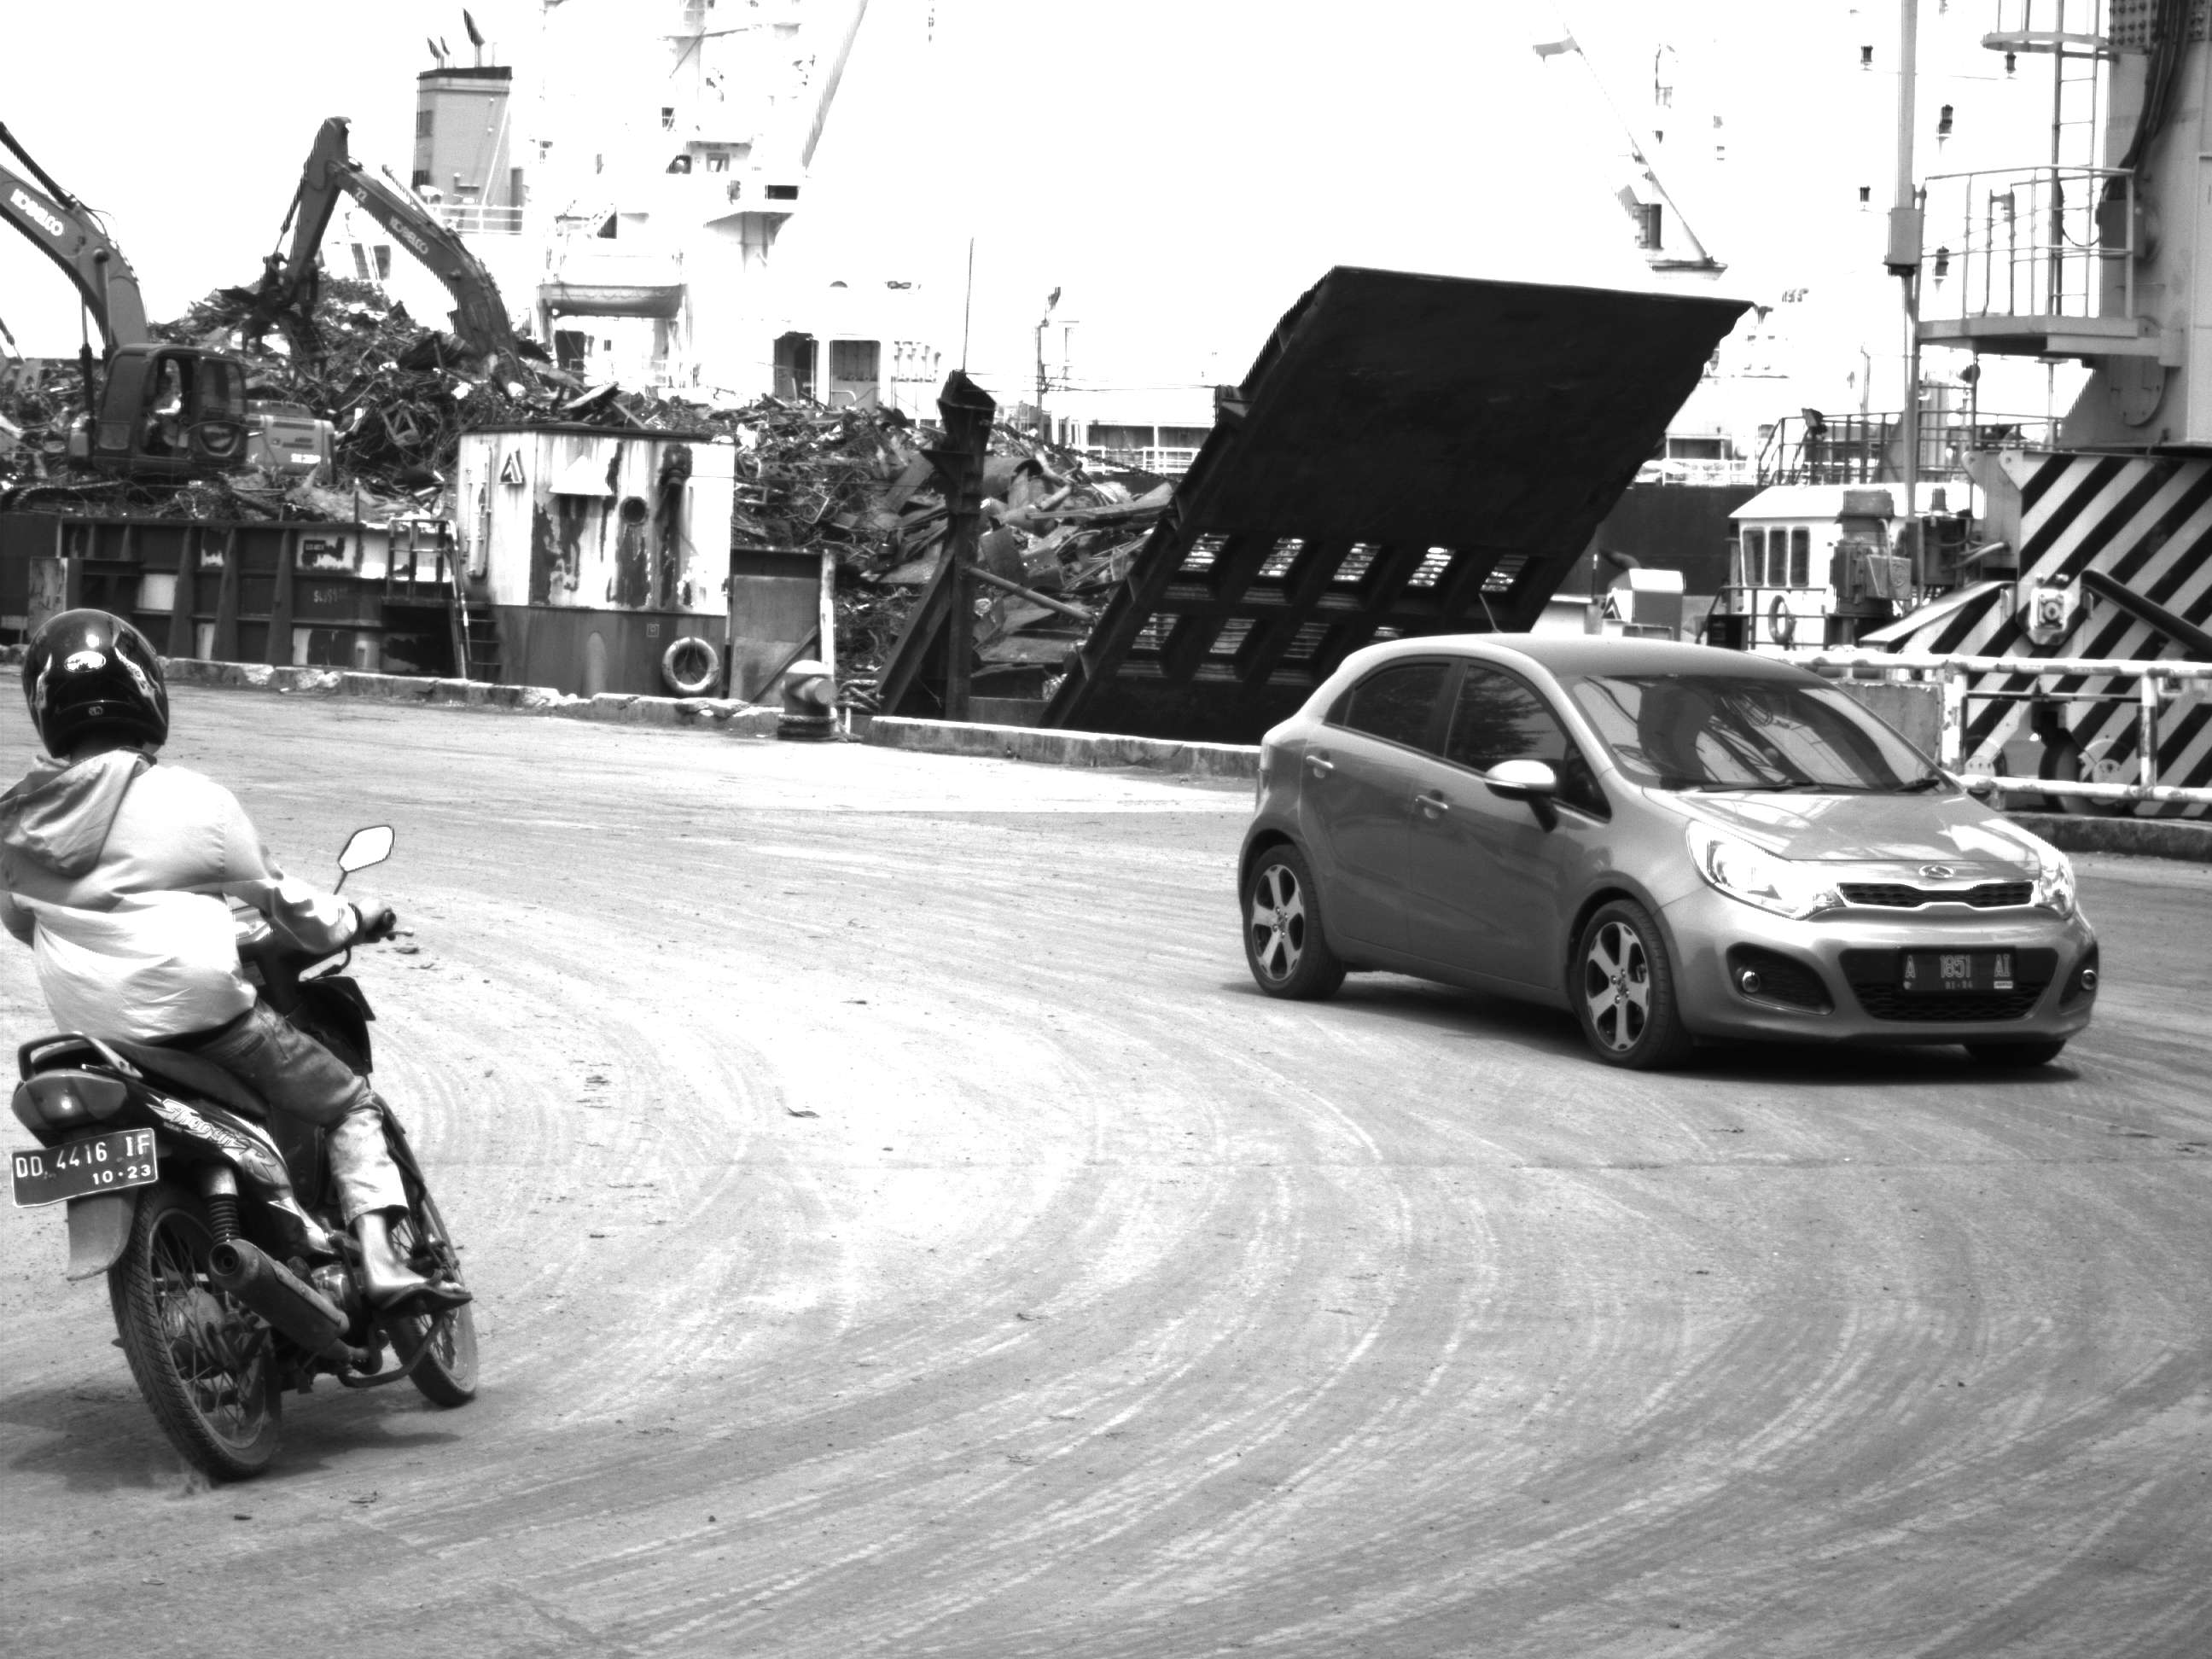day_motorcycle_rear: (20, 1022, 489, 1467)
day_small_front: (1493, 624, 2120, 1068)
plate: (3, 1132, 172, 1193), (1897, 944, 2025, 1003)
